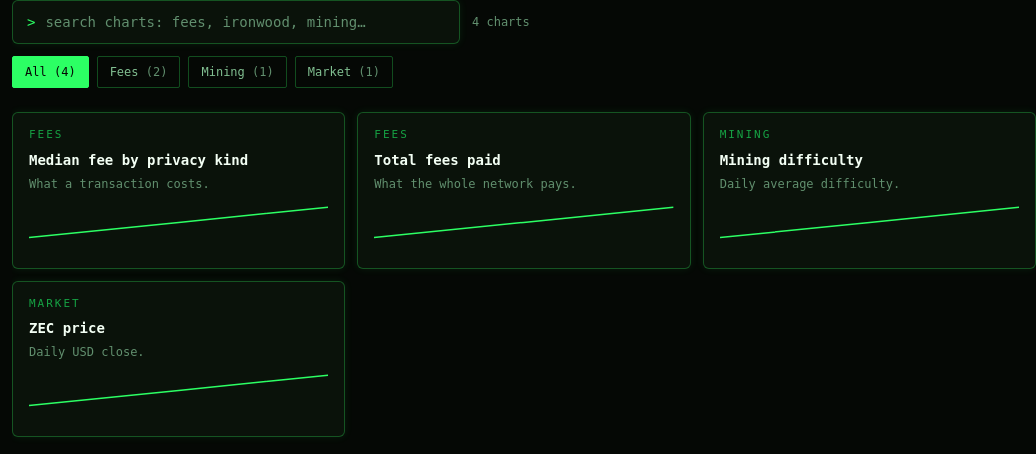
Scenario: ChartLibrary › filters by category, and All restores the list
Click the button "Mining (1)".
click(238, 72)  # box top-left (188, 56), bottom-right (287, 88)
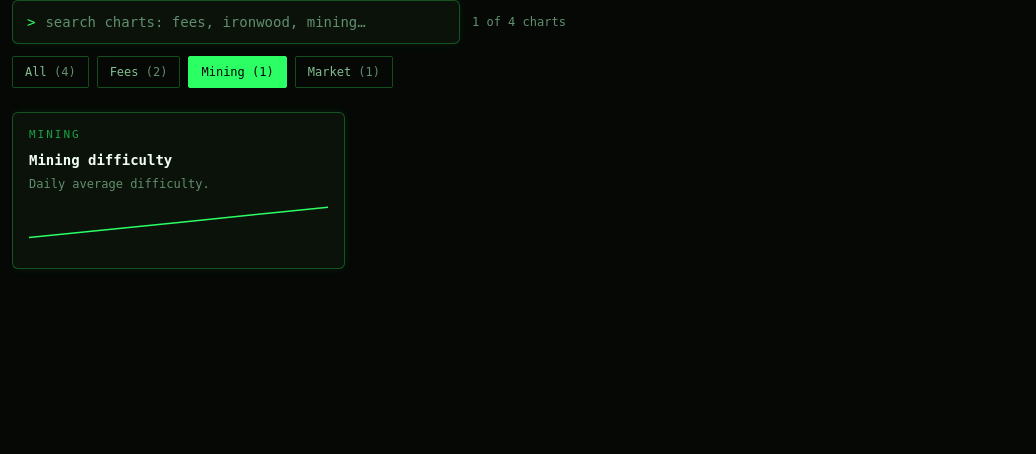
expect the button "Mining (1)" is pressed: met, box top-left (188, 56), bottom-right (287, 88)
Click the button "All (4)".
click(50, 72)  # box top-left (12, 56), bottom-right (89, 88)
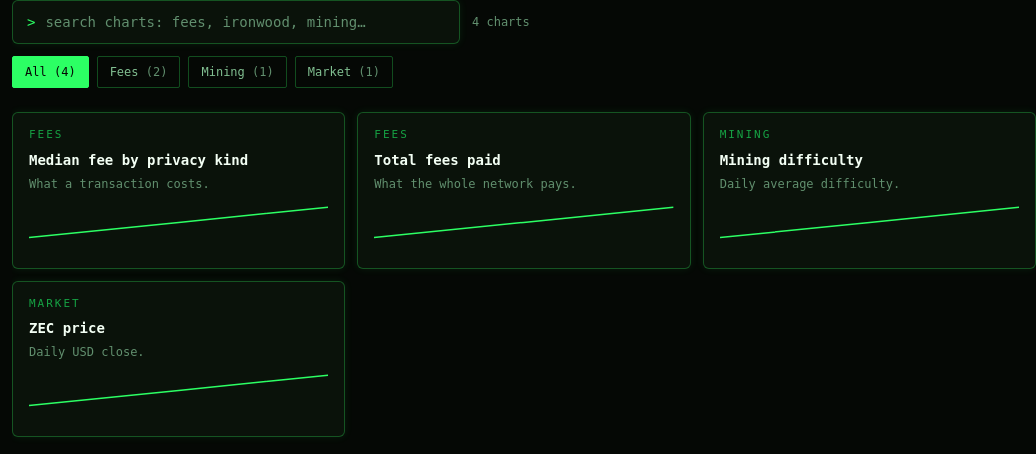
expect the number of links is 4: met, box top-left (12, 112), bottom-right (345, 268); top-left (357, 112), bottom-right (691, 268); top-left (703, 112), bottom-right (1035, 268); top-left (12, 280), bottom-right (345, 437)
